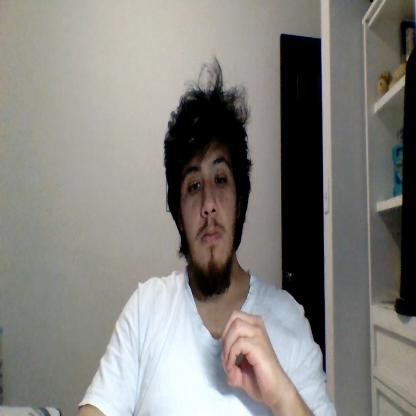O: (221, 308, 280, 404)
